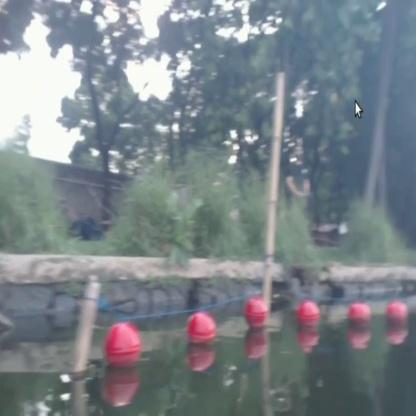red_buoy: (104, 324, 139, 370), (188, 314, 216, 356), (298, 298, 318, 334), (242, 301, 266, 329), (352, 302, 370, 330), (388, 304, 406, 324)
